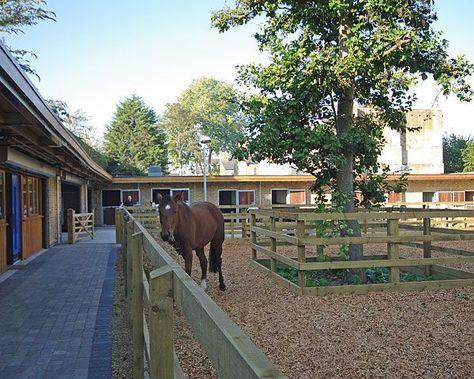horse: (156, 190, 226, 291)
